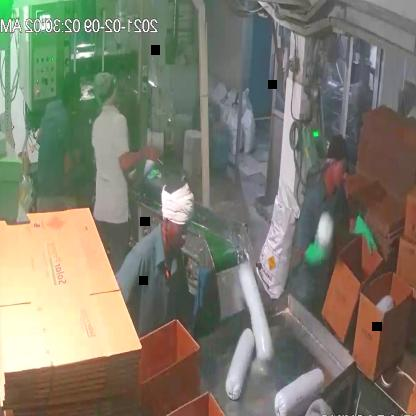glove: (302, 220, 337, 277), (348, 212, 382, 258)
no_glove: (110, 133, 170, 182)
